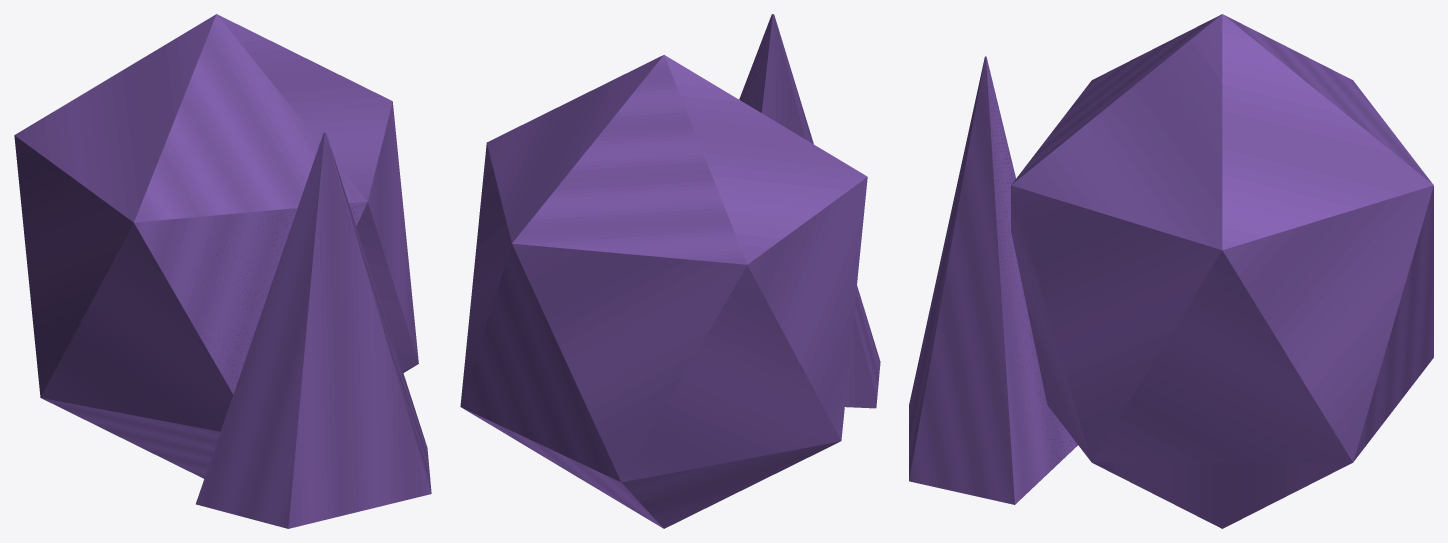
The model's file is hunter_vigor.glb.
3 views of the same model, side by side, from view 1: azimuth 30°, elevation 25°; view 2: azimuth 150°, elevation 25°; view 3: azimuth 270°, elevation 25° (orthographic). The views are drawn at different scales.
Parts seen in each view (by area): view 1: gear_hunter_vigor; view 2: gear_hunter_vigor; view 3: gear_hunter_vigor.
Boxes of the visible parts, x1=… form: gear_hunter_vigor: x1=14, y1=14, x2=431, y2=528; gear_hunter_vigor: x1=460, y1=14, x2=880, y2=528; gear_hunter_vigor: x1=909, y1=14, x2=1433, y2=528.
Bounding box in the file's own units: 0.1878 × 0.24 × 0.2217.
1 material, 1 textured.
